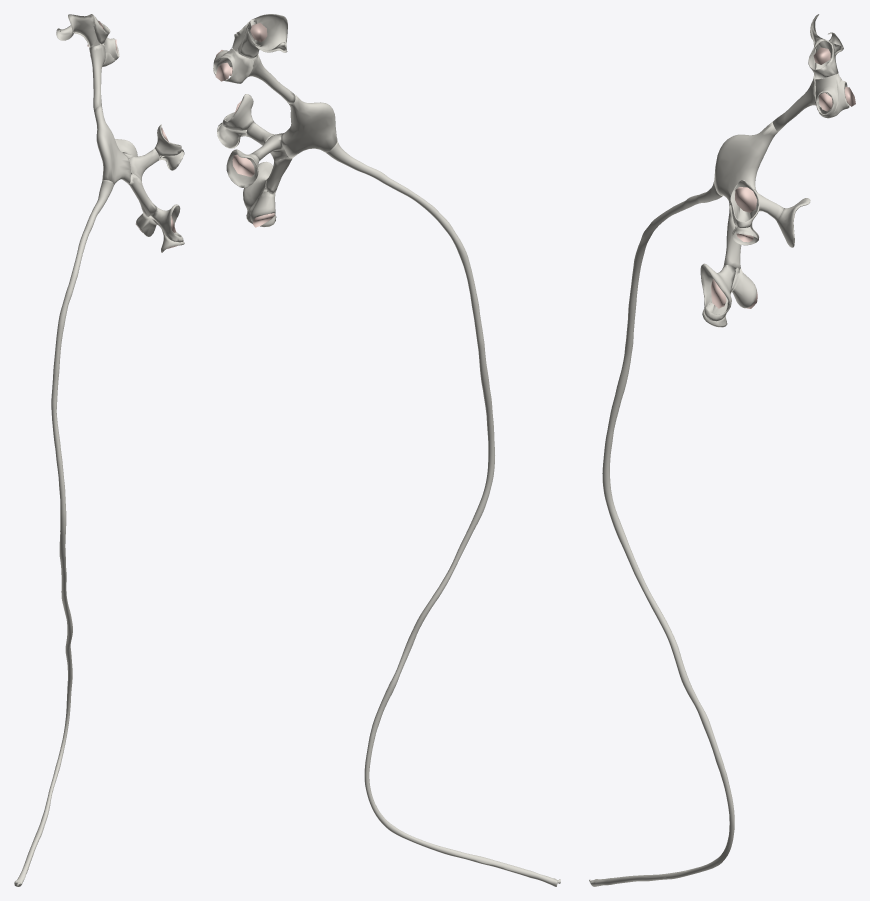
The model's file is vh_f_ureter_l-40.glb.
3 renders of one model, left to right at view 1: azimuth 30°, elevation 25°; view 2: azimuth 150°, elevation 25°; view 3: azimuth 270°, elevation 25°, orthographic. The views are drawn at different scales.
Visible parts, largest first — view 1: VH_F_left_ureter, VH_F_renal_pelvis_L, VH_F_minor_calyx_L_a, VH_F_major_calyx_L_a, VH_F_minor_calyx_L_h, VH_F_major_calyx_L_d, VH_F_major_calyx_L_c, VH_F_minor_calyx_L_f; view 2: VH_F_left_ureter, VH_F_renal_pelvis_L, VH_F_minor_calyx_L_a, VH_F_minor_calyx_L_c, VH_F_minor_calyx_L_f; view 3: VH_F_left_ureter, VH_F_renal_pelvis_L, VH_F_minor_calyx_L_h, VH_F_major_calyx_L_a, VH_F_minor_calyx_L_b, VH_F_minor_calyx_L_f, VH_F_minor_calyx_L_e, VH_F_minor_calyx_L_i, VH_F_major_calyx_L_d, VH_F_minor_calyx_L_d.
Part boxes in pixels (left/top/right/bottom): VH_F_left_ureter: left=14, top=180, right=113, bottom=886; VH_F_renal_pelvis_L: left=94, top=106, right=130, bottom=184; VH_F_minor_calyx_L_a: left=56, top=14, right=100, bottom=48; VH_F_major_calyx_L_a: left=89, top=44, right=105, bottom=111; VH_F_minor_calyx_L_h: left=151, top=204, right=183, bottom=242; VH_F_major_calyx_L_d: left=128, top=174, right=156, bottom=216; VH_F_major_calyx_L_c: left=129, top=148, right=159, bottom=180; VH_F_minor_calyx_L_f: left=154, top=124, right=181, bottom=155; VH_F_left_ureter: left=326, top=141, right=560, bottom=886; VH_F_renal_pelvis_L: left=281, top=94, right=337, bottom=158; VH_F_minor_calyx_L_a: left=238, top=14, right=287, bottom=59; VH_F_minor_calyx_L_c: left=213, top=48, right=253, bottom=83; VH_F_minor_calyx_L_f: left=222, top=94, right=253, bottom=130; VH_F_left_ureter: left=589, top=181, right=734, bottom=886; VH_F_renal_pelvis_L: left=714, top=122, right=777, bottom=206; VH_F_minor_calyx_L_h: left=700, top=263, right=735, bottom=321; VH_F_major_calyx_L_a: left=772, top=76, right=816, bottom=132; VH_F_minor_calyx_L_b: left=808, top=39, right=838, bottom=79; VH_F_minor_calyx_L_f: left=730, top=180, right=759, bottom=227; VH_F_minor_calyx_L_e: left=777, top=198, right=810, bottom=247; VH_F_minor_calyx_L_i: left=732, top=268, right=756, bottom=308; VH_F_major_calyx_L_d: left=723, top=205, right=741, bottom=269; VH_F_minor_calyx_L_d: left=815, top=74, right=837, bottom=117.
Size of the model in its own units: 0.0825 by 0.266 by 0.0672.
